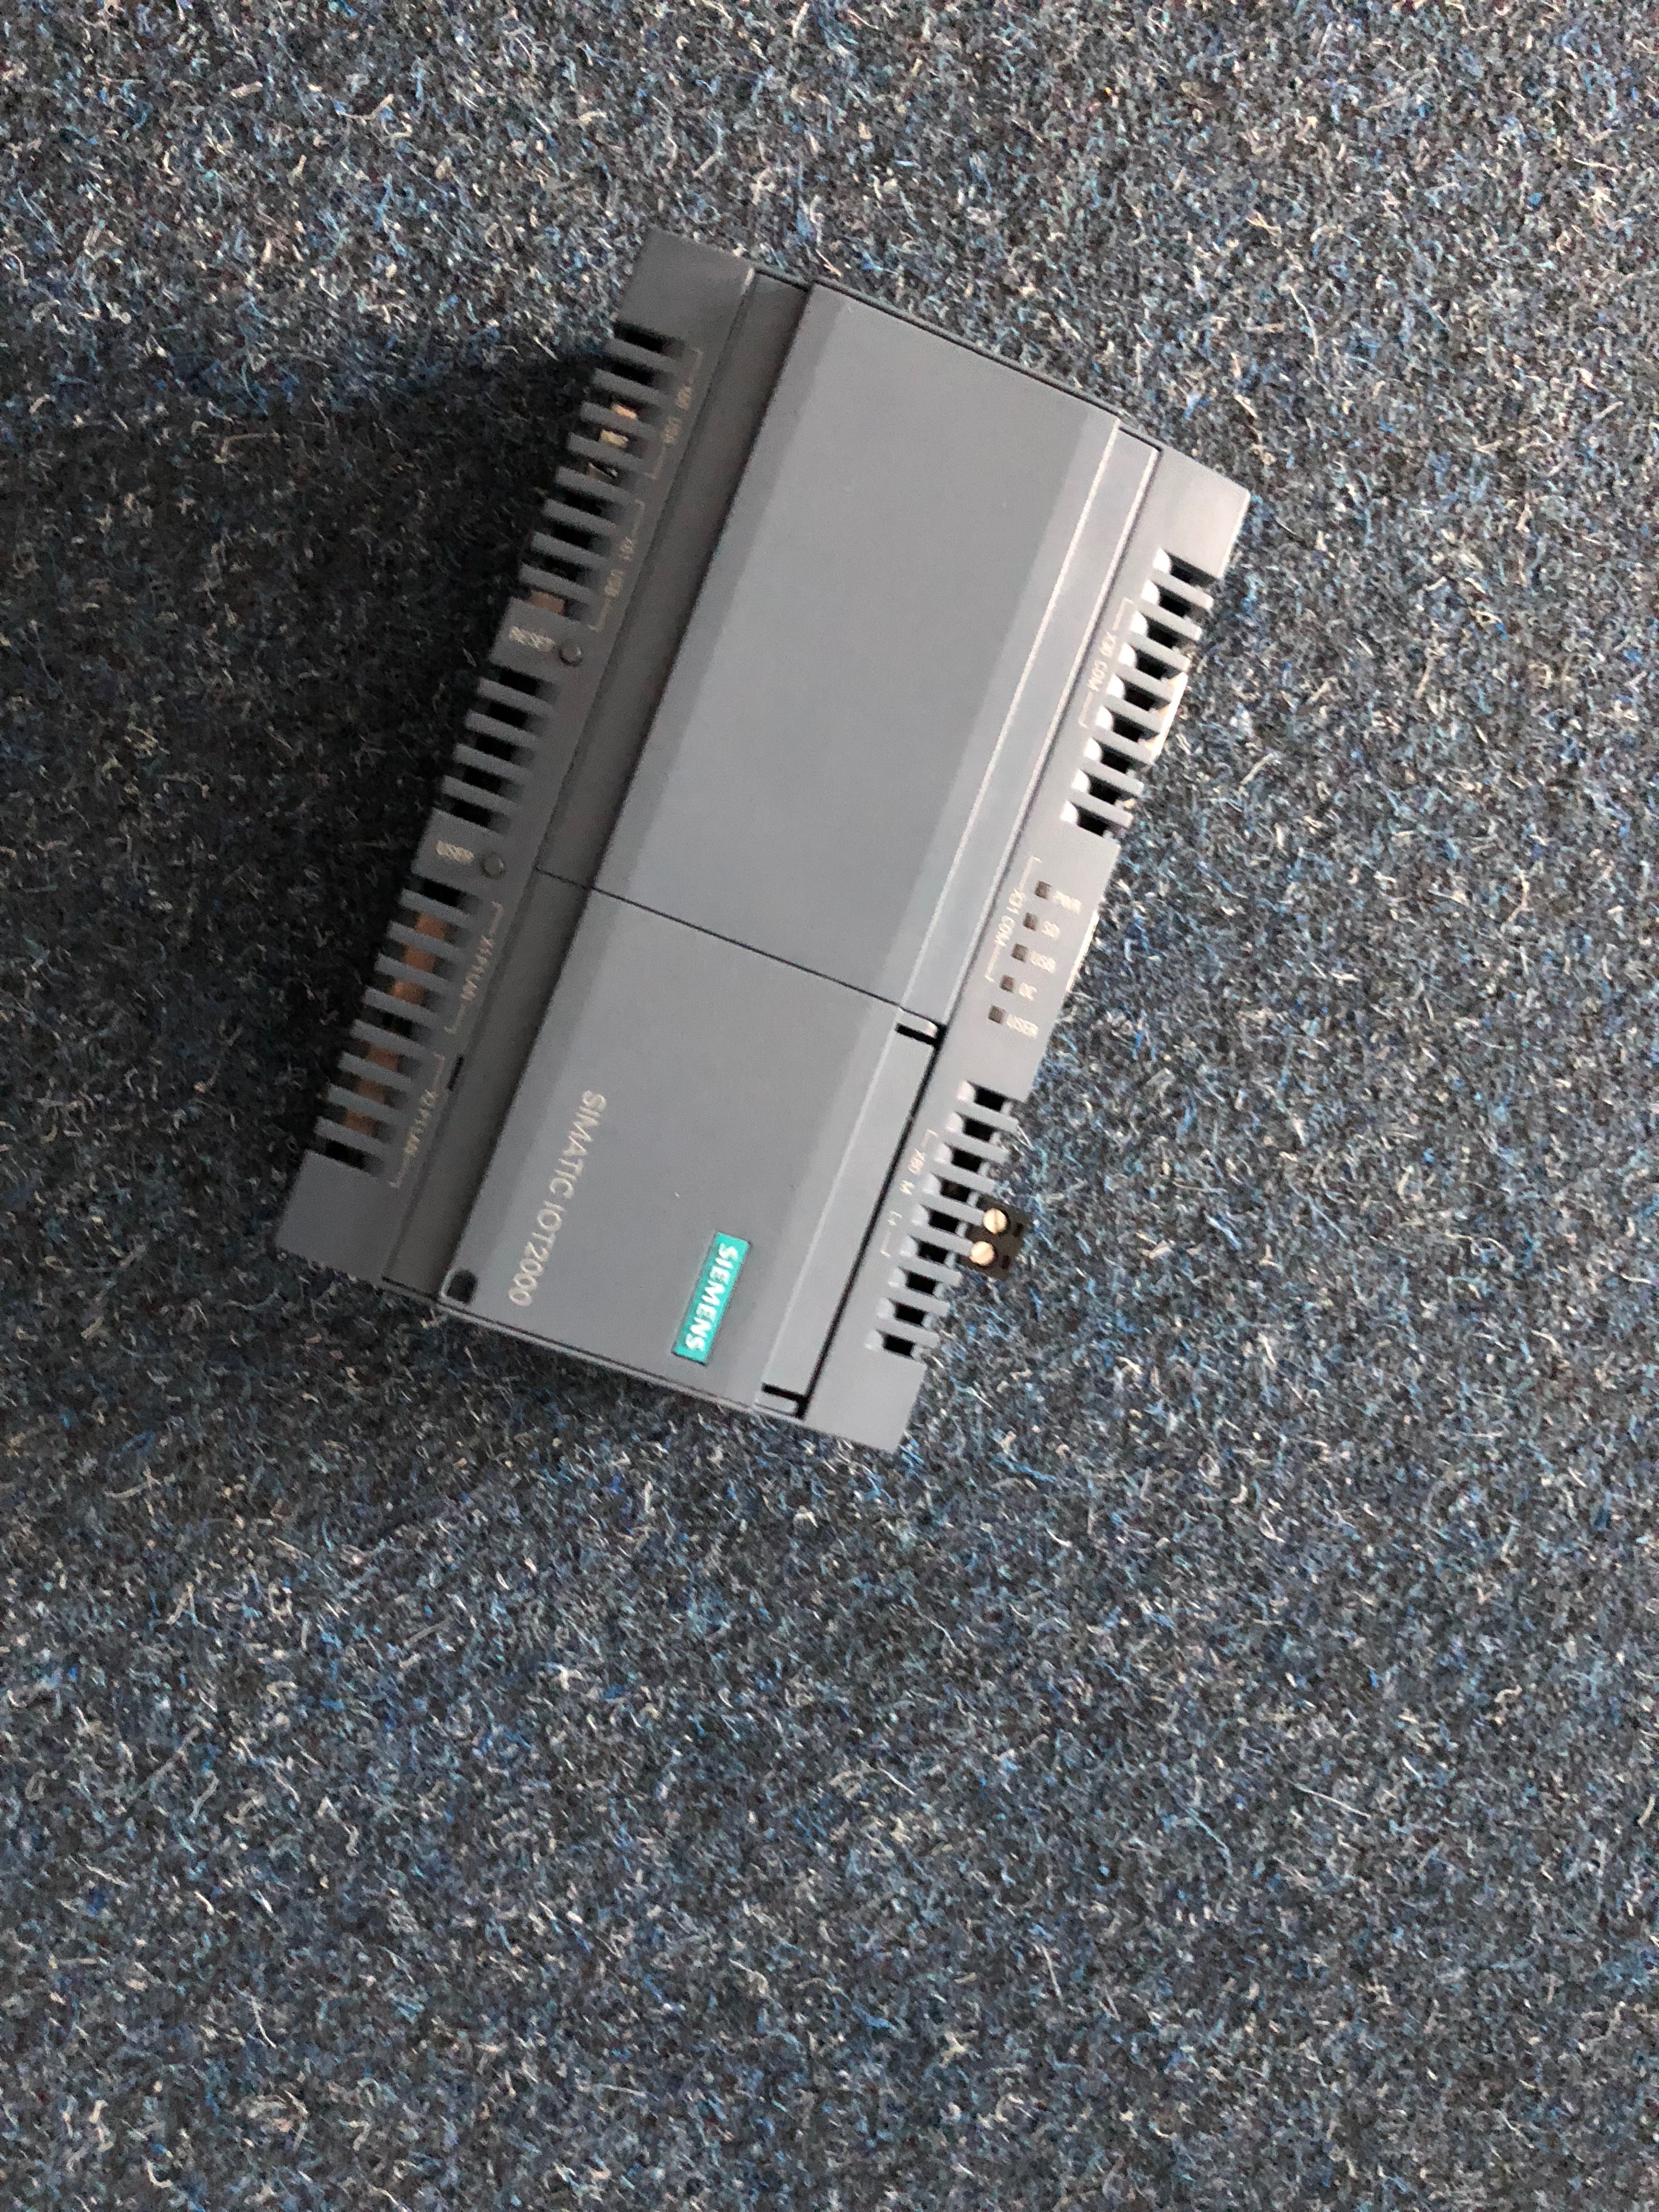device: (274, 226, 1251, 1456)
